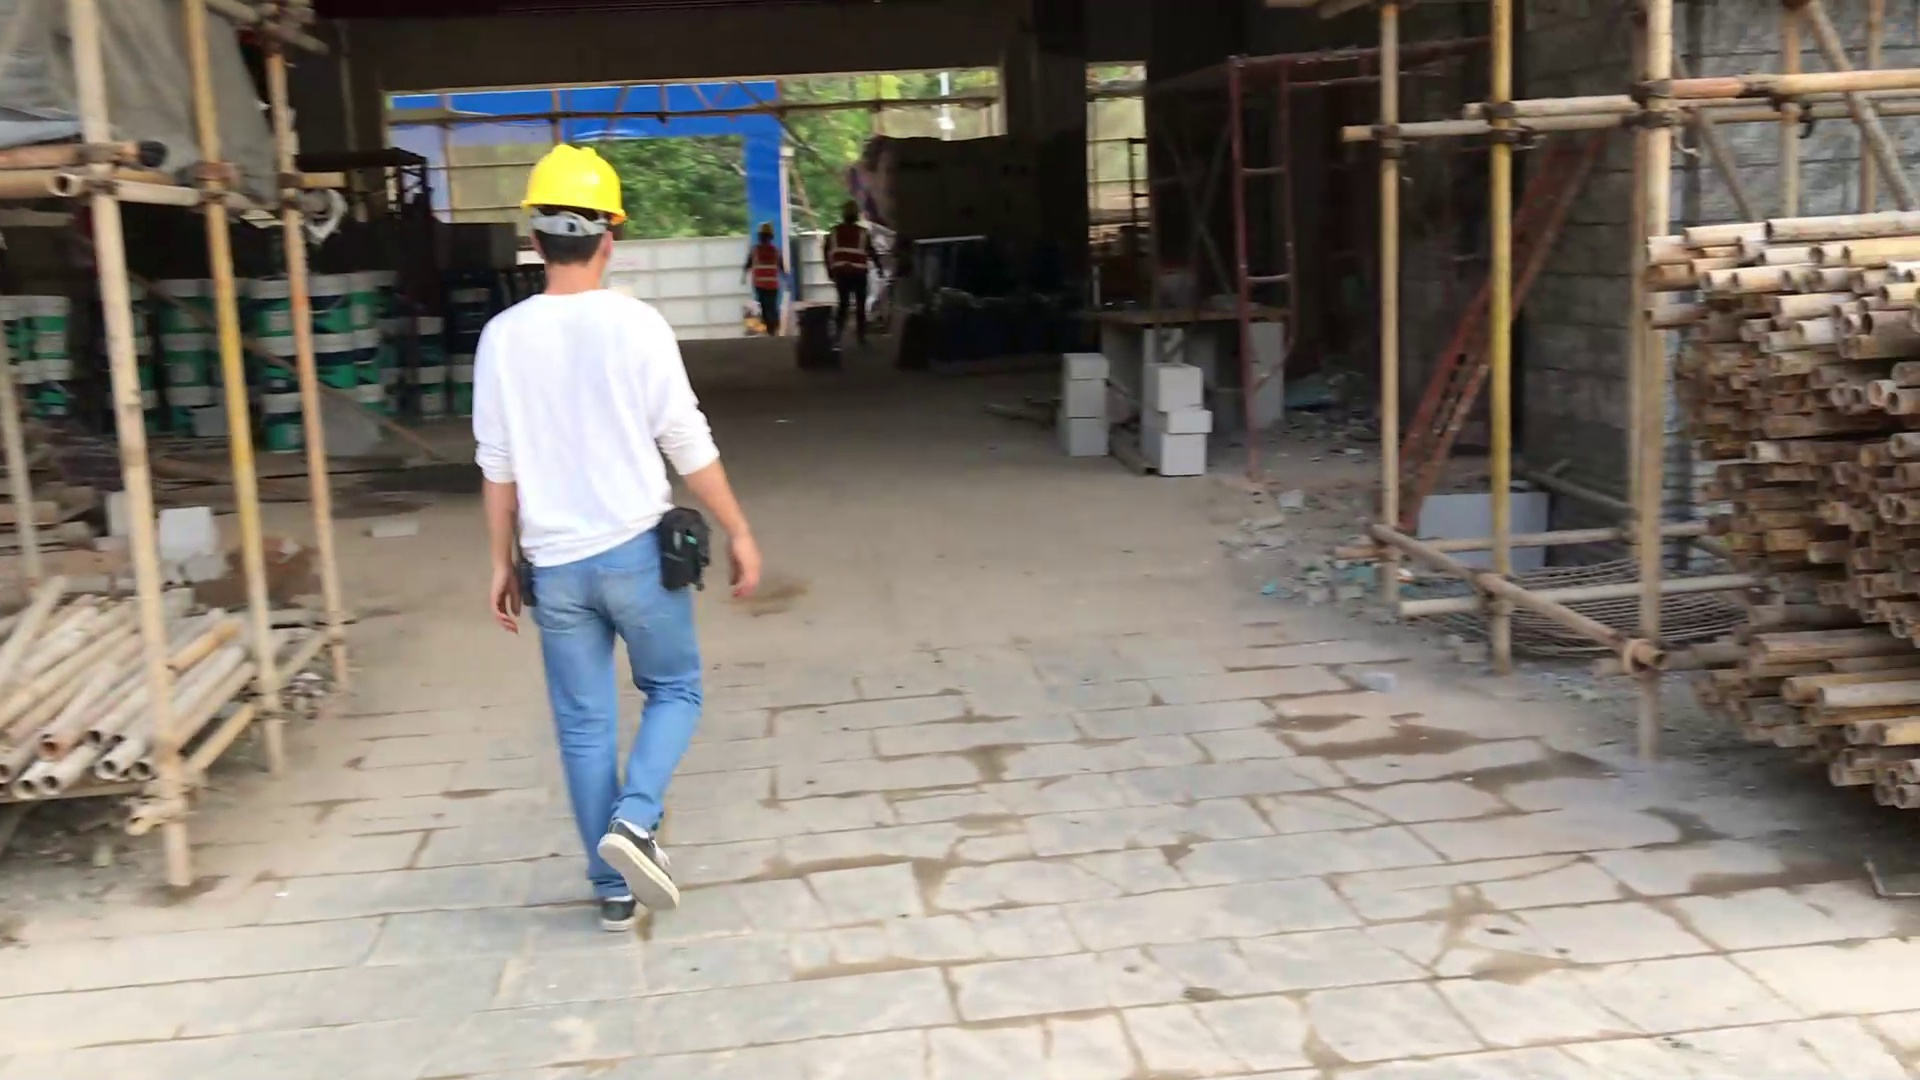helmet: (511, 130, 636, 224)
person: (455, 131, 749, 931), (825, 187, 888, 360), (737, 204, 801, 349)
vest: (832, 226, 871, 282), (751, 241, 786, 293)
